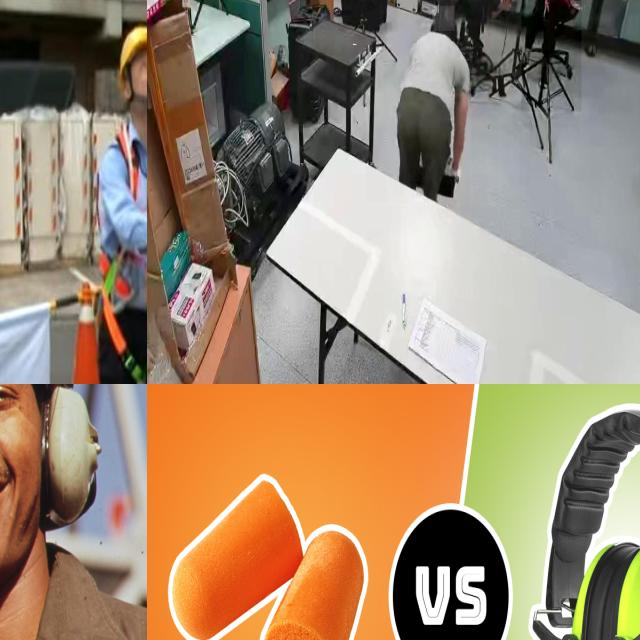Ear-protection: (42, 385, 103, 529), (566, 541, 619, 640)
Harness: (98, 119, 147, 384)
hand_noglove: (542, 0, 549, 20)
head_nohelmet: (433, 6, 455, 32)
person: (387, 8, 473, 206), (521, 0, 582, 112)
